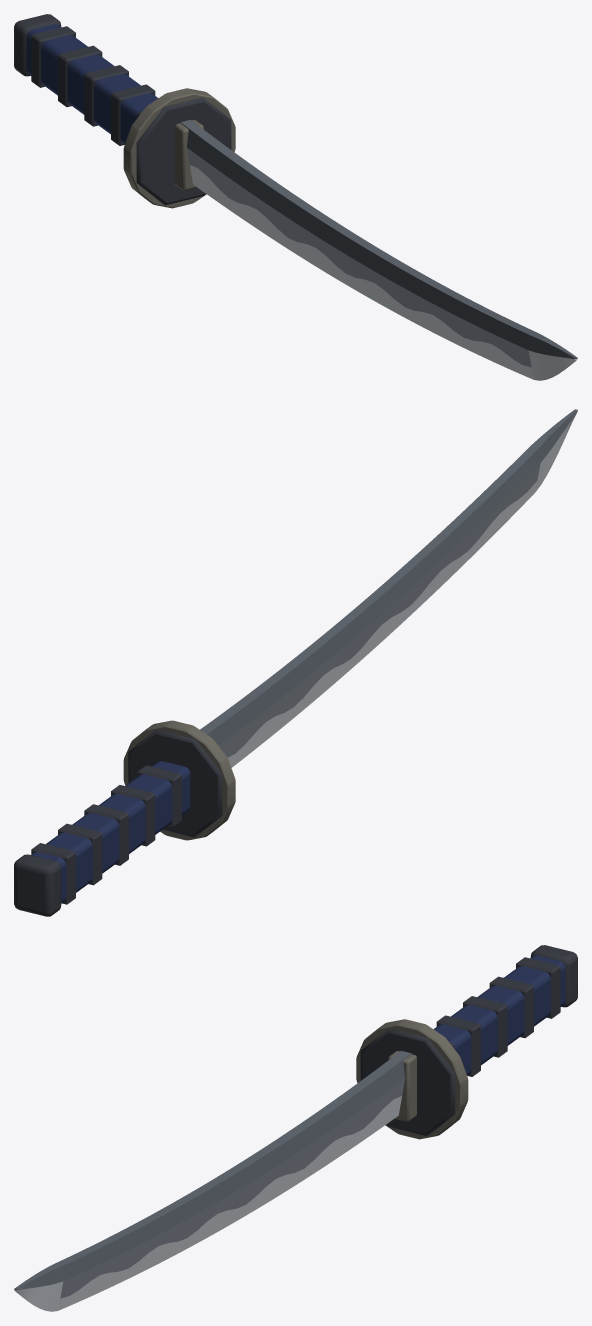
The model's file is w_katana.glb.
3 renders of one model, top to bottom at view 1: azimuth 30°, elevation 25°; view 2: azimuth 150°, elevation 25°; view 3: azimuth 330°, elevation 25°, orthographic.
Visible parts, largest first — view 1: kat_blade_wzB__spine__p5f666f, kat_blade_wzB__edge__pcdd2d8, kat_blade_wzB__steel__p858c96, kat_tsuka_wzA__body__p283459, kat_guard_wzN__dark__p353840, kat_guard_wzN__brass__p6a675e, kat_trims_wzN__dark__p353840, kat_tsuka_wzN__dark__p353840; view 2: kat_blade_wzB__spine__p5f666f, kat_tsuka_wzA__body__p283459, kat_blade_wzB__edge__pcdd2d8, kat_blade_wzB__steel__p858c96, kat_guard_wzN__dark__p353840, kat_trims_wzN__dark__p353840, kat_tsuka_wzN__dark__p353840, kat_guard_wzN__brass__p6a675e; view 3: kat_blade_wzB__spine__p5f666f, kat_blade_wzB__edge__pcdd2d8, kat_blade_wzB__steel__p858c96, kat_tsuka_wzA__body__p283459, kat_guard_wzN__dark__p353840, kat_guard_wzN__brass__p6a675e, kat_trims_wzN__dark__p353840, kat_tsuka_wzN__dark__p353840.
Boxes of the visible parts, x1,y1,x2,y2 form: kat_blade_wzB__spine__p5f666f: (180,120,577,358); kat_blade_wzB__edge__pcdd2d8: (190,165,577,380); kat_blade_wzB__steel__p858c96: (187,148,531,367); kat_tsuka_wzA__body__p283459: (26,24,158,144); kat_guard_wzN__dark__p353840: (136,97,231,205); kat_guard_wzN__brass__p6a675e: (123,88,235,208); kat_trims_wzN__dark__p353840: (31,26,155,145); kat_tsuka_wzN__dark__p353840: (14,14,61,76); kat_blade_wzB__spine__p5f666f: (200,409,577,745); kat_tsuka_wzA__body__p283459: (31,761,190,903); kat_blade_wzB__edge__pcdd2d8: (228,412,577,767); kat_blade_wzB__steel__p858c96: (219,463,540,757); kat_guard_wzN__dark__p353840: (128,729,222,837); kat_trims_wzN__dark__p353840: (31,765,181,904); kat_tsuka_wzN__dark__p353840: (14,854,61,916); kat_guard_wzN__brass__p6a675e: (123,720,235,840); kat_blade_wzB__spine__p5f666f: (14,1051,411,1289); kat_blade_wzB__edge__pcdd2d8: (14,1096,401,1311); kat_blade_wzB__steel__p858c96: (60,1079,404,1298); kat_tsuka_wzA__body__p283459: (433,955,565,1075); kat_guard_wzN__dark__p353840: (360,1028,455,1136); kat_guard_wzN__brass__p6a675e: (356,1019,468,1139); kat_trims_wzN__dark__p353840: (436,957,560,1076); kat_tsuka_wzN__dark__p353840: (530,945,577,1007).
Size of the model in its own units: 0.1079 by 0.1329 by 0.9667.
